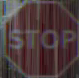Stop: (1, 6, 75, 63)
